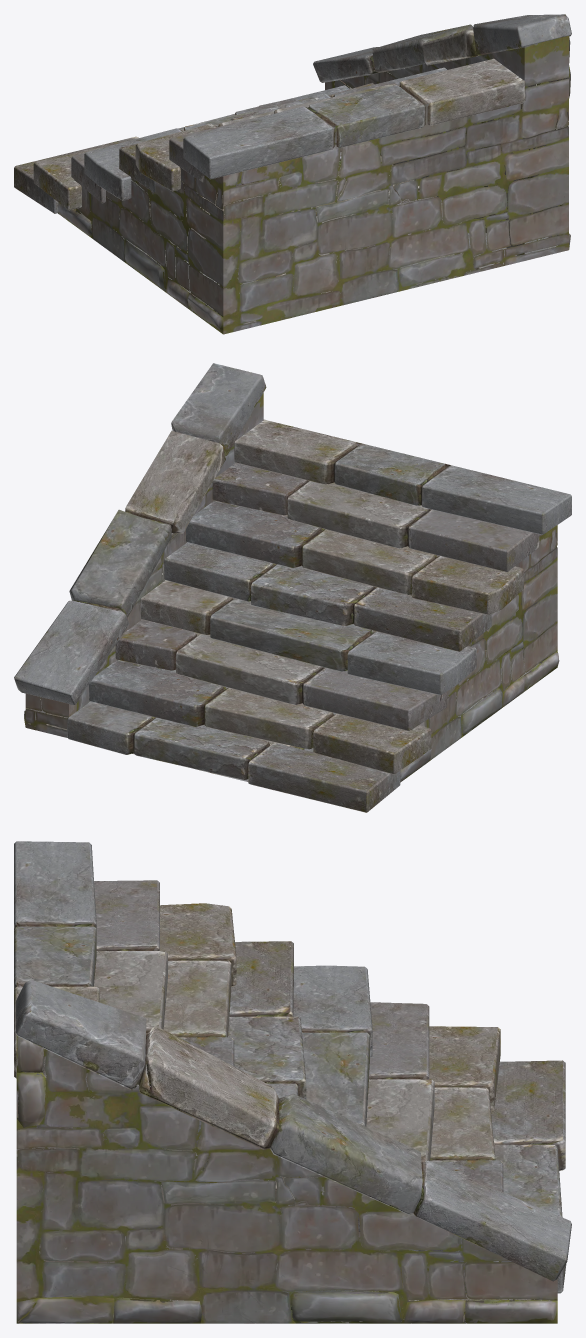
3 renders of one model, top to bottom at view 1: azimuth 30°, elevation 25°; view 2: azimuth 150°, elevation 25°; view 3: azimuth 270°, elevation 25°, orthographic. The views are drawn at different scales.
Parts seen in each view (by area): view 1: SM_Castle_Steps_4x2_01_v1_LOD0; view 2: SM_Castle_Steps_4x2_01_v1_LOD0; view 3: SM_Castle_Steps_4x2_01_v1_LOD0.
Boxes of the visible parts, x1,y1,x2,y2 form: SM_Castle_Steps_4x2_01_v1_LOD0: (14,14,571,334); SM_Castle_Steps_4x2_01_v1_LOD0: (14,363,571,812); SM_Castle_Steps_4x2_01_v1_LOD0: (14,841,571,1323).
Size of the model in its own units: 4.28 by 2.56 by 4.13.
2 materials, 2 textured.
